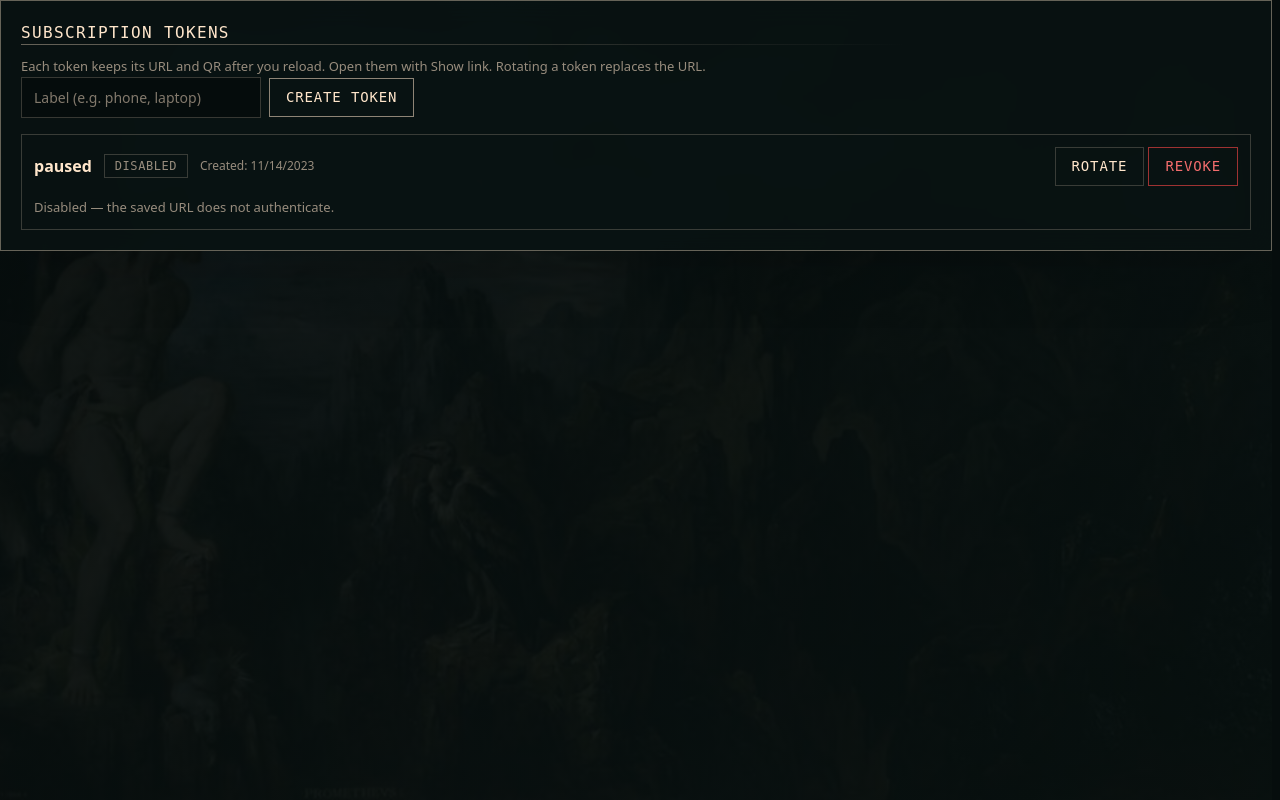
SubscriptionTokensPanel errors › does not offer the rotated URL of a disabled token as copyable
Click the button "Rotate": [1099, 166] box x1=1055 y1=146 x2=1144 y2=186
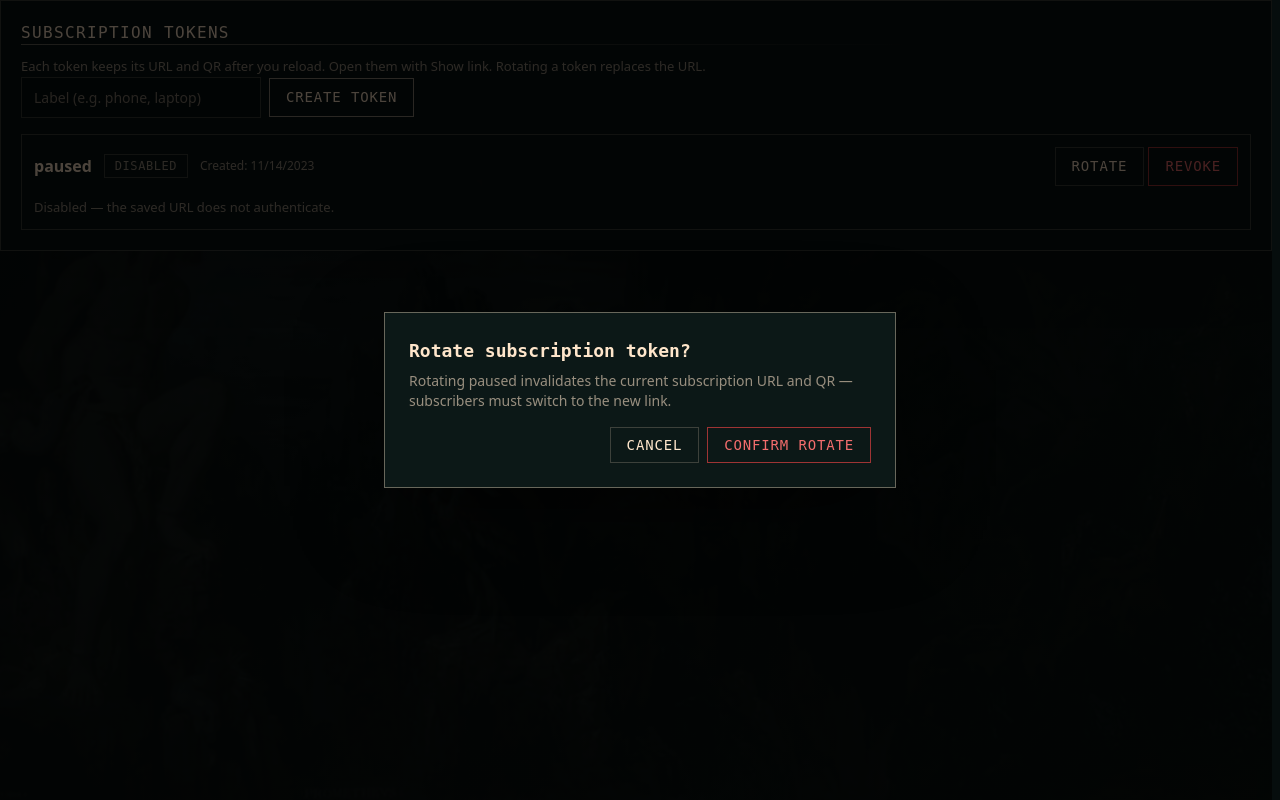
Click the button "Confirm rotate": [789, 445] box x1=707 y1=427 x2=871 y2=463
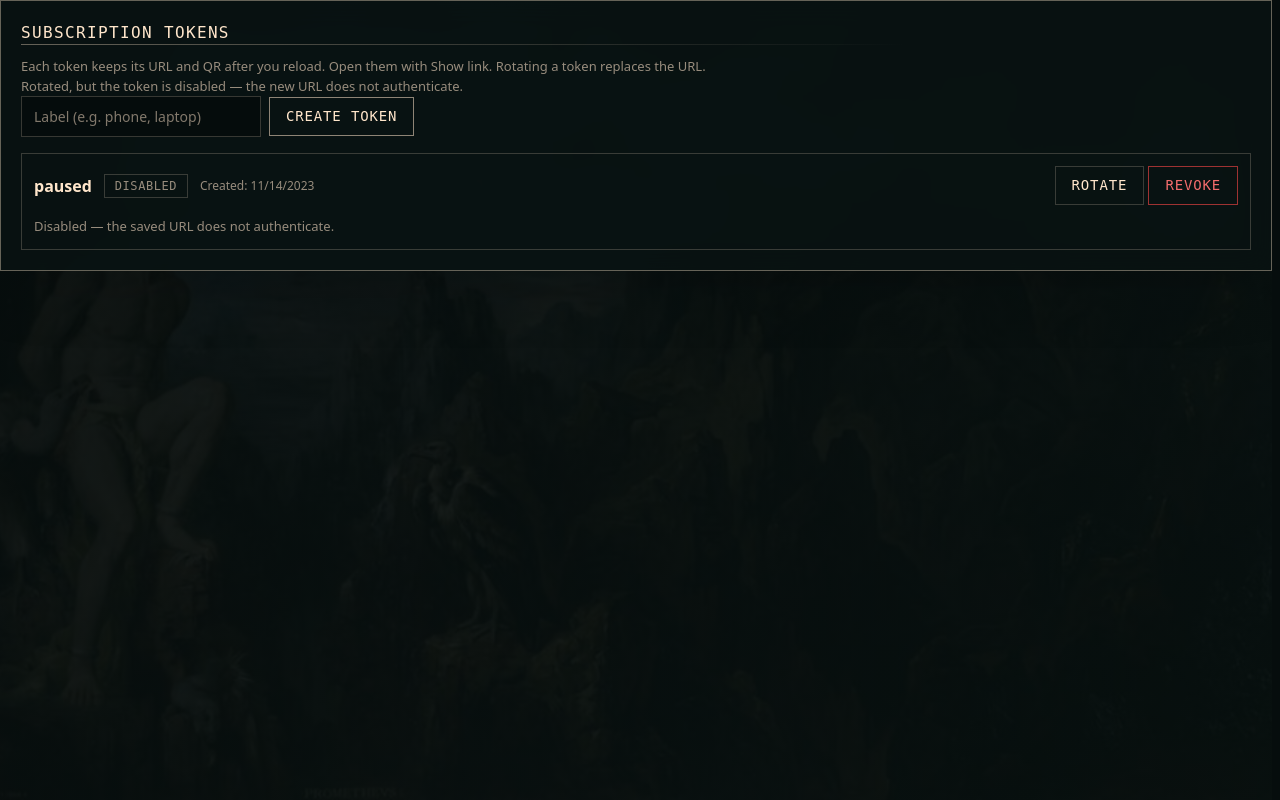
Expected: the text "Rotated, but the token is disabled" is shown, x1=21 y1=76 x2=463 y2=94
